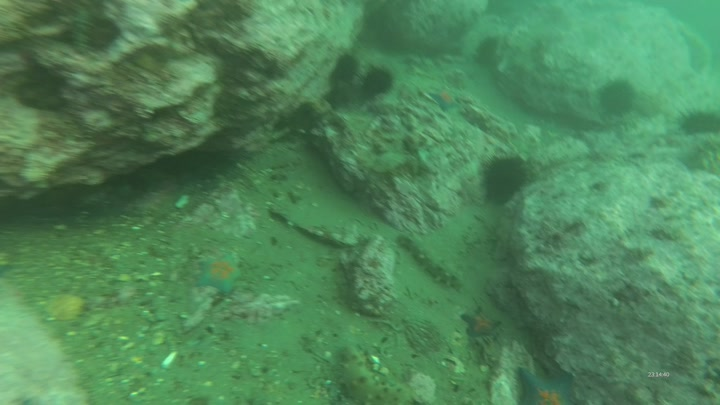echinus: (481, 152, 535, 207), (598, 78, 638, 119), (678, 106, 720, 137), (361, 65, 395, 100), (333, 53, 360, 86), (474, 37, 500, 68)
holothurian: (339, 346, 415, 405), (397, 233, 464, 292), (246, 147, 307, 174), (682, 26, 712, 75), (69, 9, 96, 56), (697, 134, 720, 173)
scallop: (43, 293, 87, 324), (371, 153, 412, 176)
starfish: (517, 366, 577, 405), (196, 255, 244, 295), (461, 306, 503, 340), (429, 90, 461, 114)
